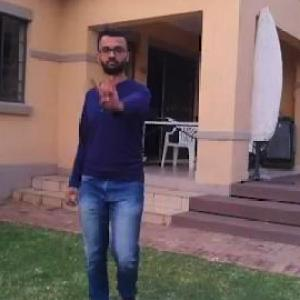takeoff-hand: (90, 68, 127, 114)
